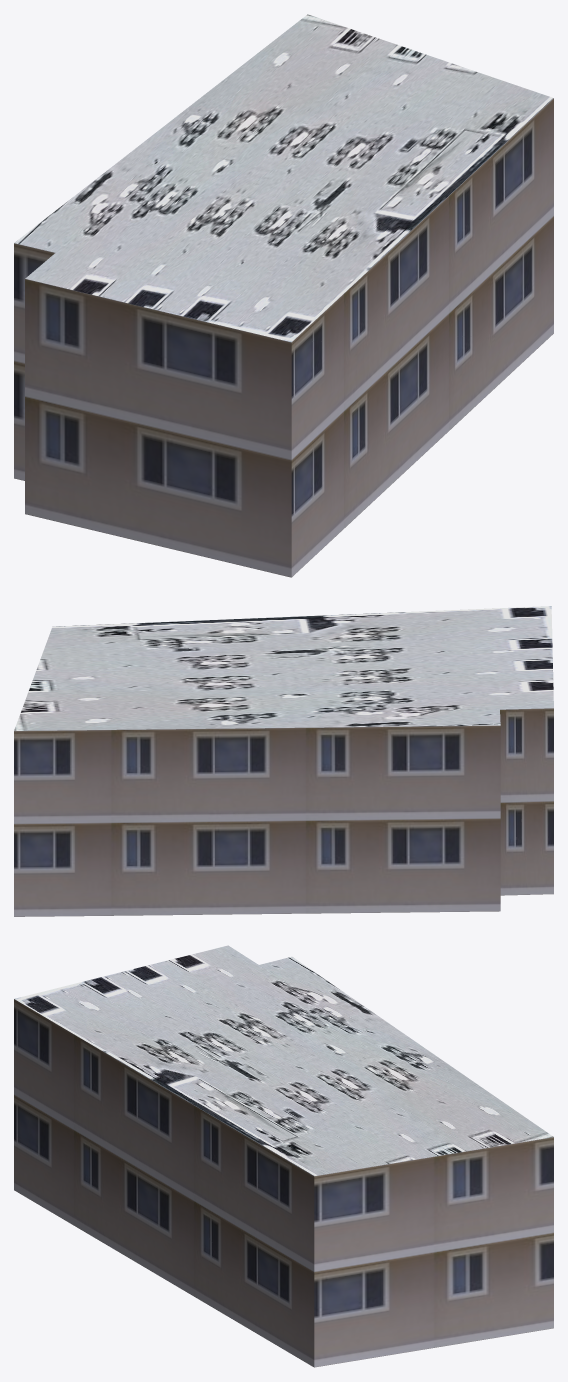
Rendered from ResTex__42.fbx.
3 renders of one model, top to bottom at view 1: azimuth 30°, elevation 25°; view 2: azimuth 150°, elevation 25°; view 3: azimuth 270°, elevation 25°, orthographic. The views are drawn at different scales.
Parts seen in each view (by area): view 1: CityEngineMaterial_21_m, CityEngineMaterial_m; view 2: CityEngineMaterial_21_m, CityEngineMaterial_m; view 3: CityEngineMaterial_21_m, CityEngineMaterial_m.
Part boxes in pixels (x1,y1,x2,y2): CityEngineMaterial_21_m: [14, 98, 553, 577]; CityEngineMaterial_m: [14, 14, 553, 342]; CityEngineMaterial_21_m: [14, 708, 553, 916]; CityEngineMaterial_m: [14, 606, 553, 730]; CityEngineMaterial_21_m: [14, 999, 553, 1367]; CityEngineMaterial_m: [14, 945, 553, 1176].
Size of the model in its own units: 15.52 by 6 by 15.35.
2 materials, 2 textured.
